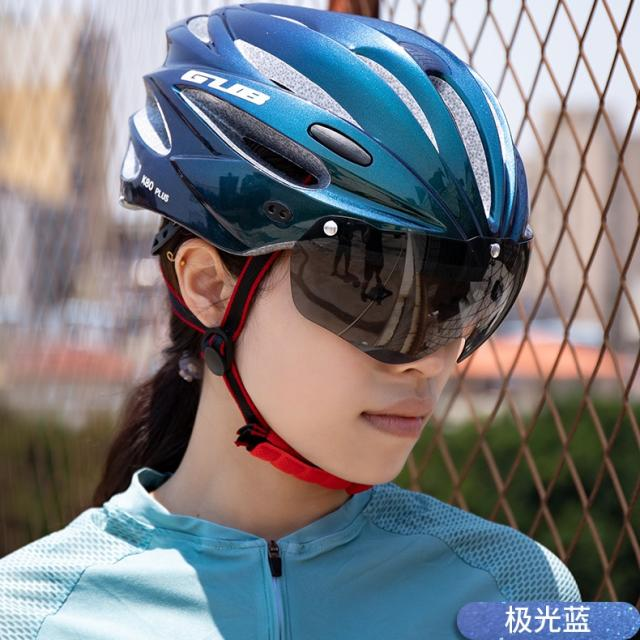illegal_helmet: (112, 0, 547, 503)
